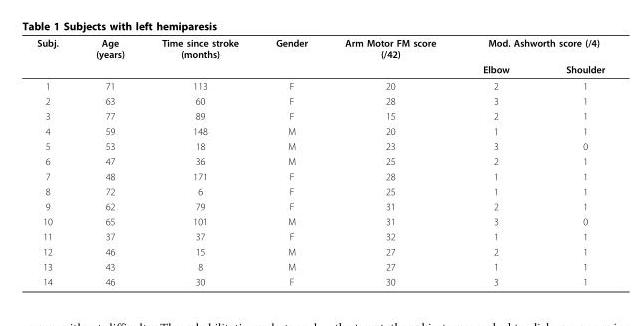table: (36, 36, 604, 287)
table column: (325, 36, 458, 287), (142, 36, 256, 287), (458, 36, 536, 287), (256, 36, 325, 287), (536, 36, 604, 287), (76, 36, 142, 287), (36, 36, 76, 287)
table column header: (36, 36, 604, 77)
table row: (36, 36, 604, 61), (36, 61, 604, 77), (36, 77, 604, 93), (36, 93, 604, 108), (36, 108, 604, 123), (36, 123, 604, 138), (36, 138, 604, 153), (36, 153, 604, 168), (36, 168, 604, 183), (36, 183, 604, 198), (36, 198, 604, 213), (36, 213, 604, 228), (36, 228, 604, 243), (36, 243, 604, 258), (36, 258, 604, 273), (36, 273, 604, 287)
table spanning cell: (325, 36, 458, 77), (142, 36, 256, 77), (458, 36, 604, 61), (256, 36, 325, 77), (76, 36, 142, 77), (36, 36, 76, 77)
